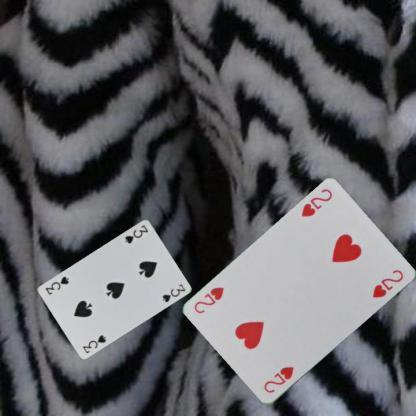2h: (299, 186, 334, 219), (261, 364, 295, 395)
3s: (80, 332, 108, 354), (123, 222, 149, 244)
